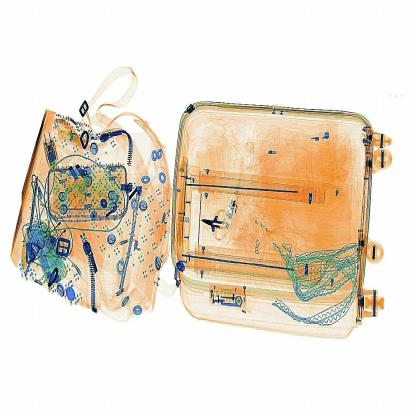gun: (193, 198, 243, 248)
